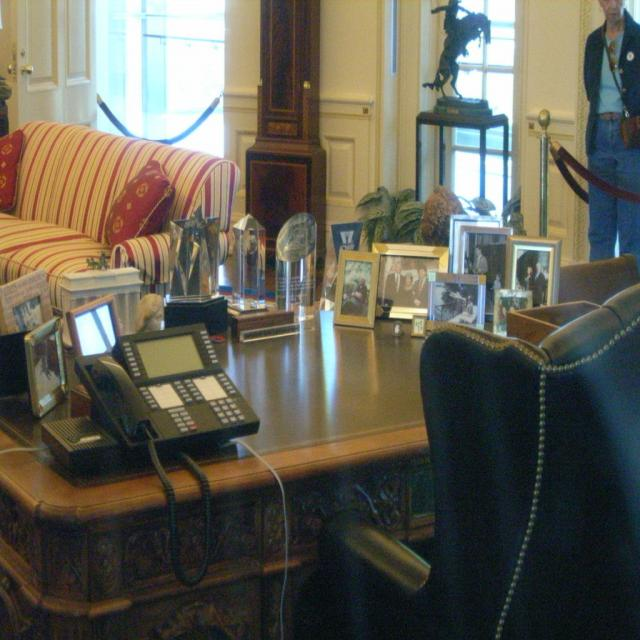chair: (302, 268, 640, 640)
desk: (1, 313, 432, 639)
laptop: (82, 317, 260, 461)
person: (582, 0, 640, 268)
